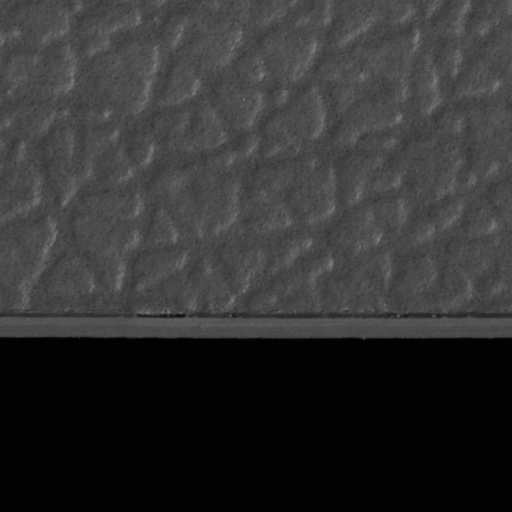jiaofeng: (128, 309, 188, 321)
